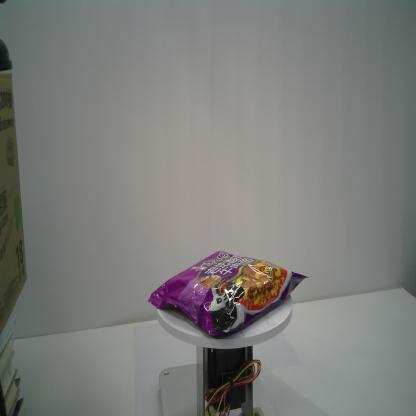Instant Noodles: (148, 248, 308, 340)
